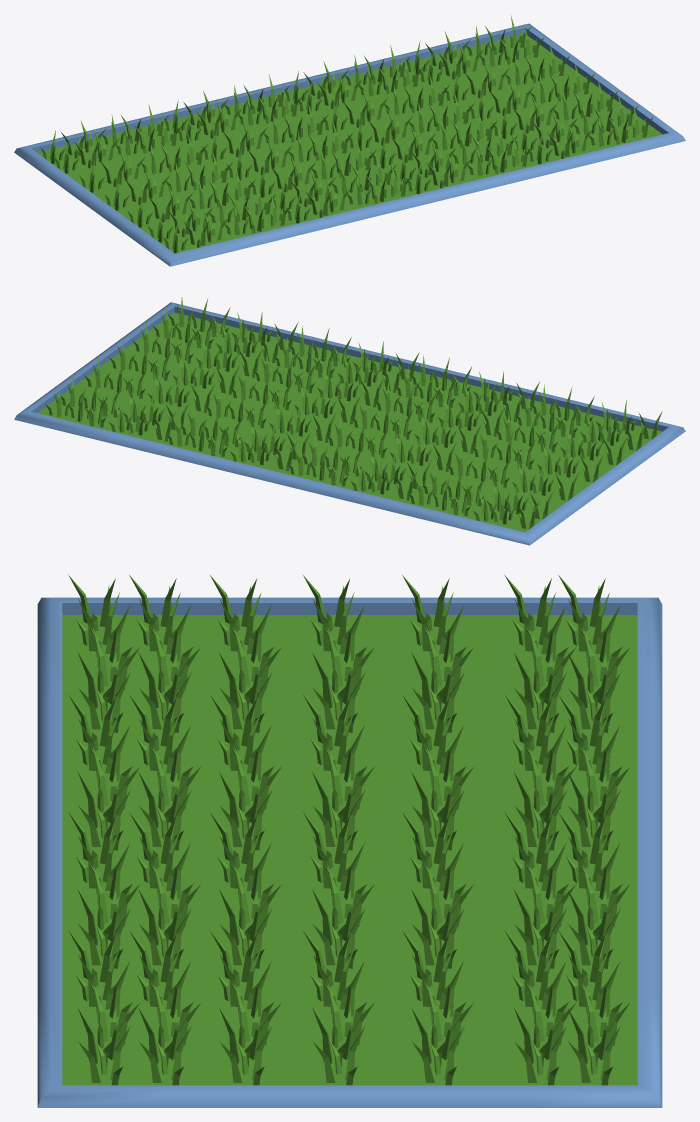
File: Grass_farm.fbx
The picture shows the model from 3 angles, top to bottom: view 1: azimuth 30°, elevation 25°; view 2: azimuth 150°, elevation 25°; view 3: azimuth 270°, elevation 25°; orthographic projection. The views are drawn at different scales.
Parts seen in each view (by area): view 1: Plane.002; view 2: Plane.002; view 3: Plane.002, Circle.001, Circle.027, Circle.073, Circle.175, Circle.277, Circle.141, Circle.107, Circle.294, Circle.134, Circle.011, Circle.124 (+17 smaller).
Part boxes in pixels (bbox=[...]): Plane.002: bbox=[14, 23, 685, 266]; Plane.002: bbox=[14, 302, 685, 545]; Plane.002: bbox=[37, 597, 662, 1107]; Circle.001: bbox=[78, 1026, 130, 1085]; Circle.027: bbox=[568, 1026, 620, 1085]; Circle.073: bbox=[139, 1026, 191, 1085]; Circle.175: bbox=[412, 1025, 464, 1085]; Circle.277: bbox=[515, 1026, 566, 1085]; Circle.141: bbox=[313, 1026, 365, 1085]; Circle.107: bbox=[220, 1025, 272, 1085]; Circle.294: bbox=[512, 830, 555, 890]; Circle.134: bbox=[217, 593, 260, 653]; Circle.011: bbox=[76, 712, 119, 773]; Circle.124: bbox=[217, 829, 261, 890].
Bounding box in the file's own units: 21.08 × 1.11 × 11.06.
